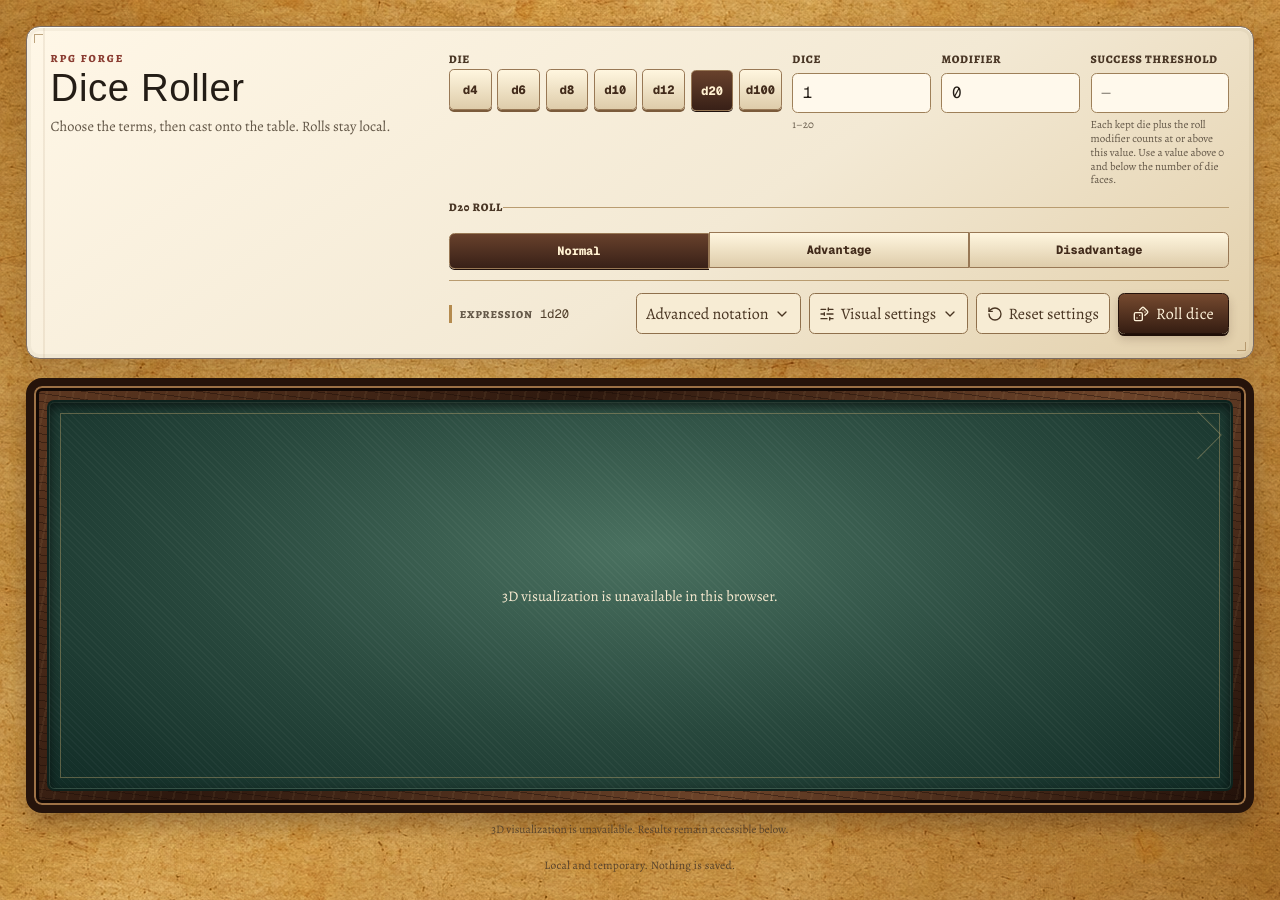
Test case: DiceRoller › uses an accessible engine fallback when WebGL initialization fails
The width and height of the screenshot is (1280, 900).
expect the text "3D visualization is unavailable in this browser." is shown: met, box [502, 586, 778, 606]
Click the button "Roll dice" at (1173, 314), box [1118, 294, 1229, 334]
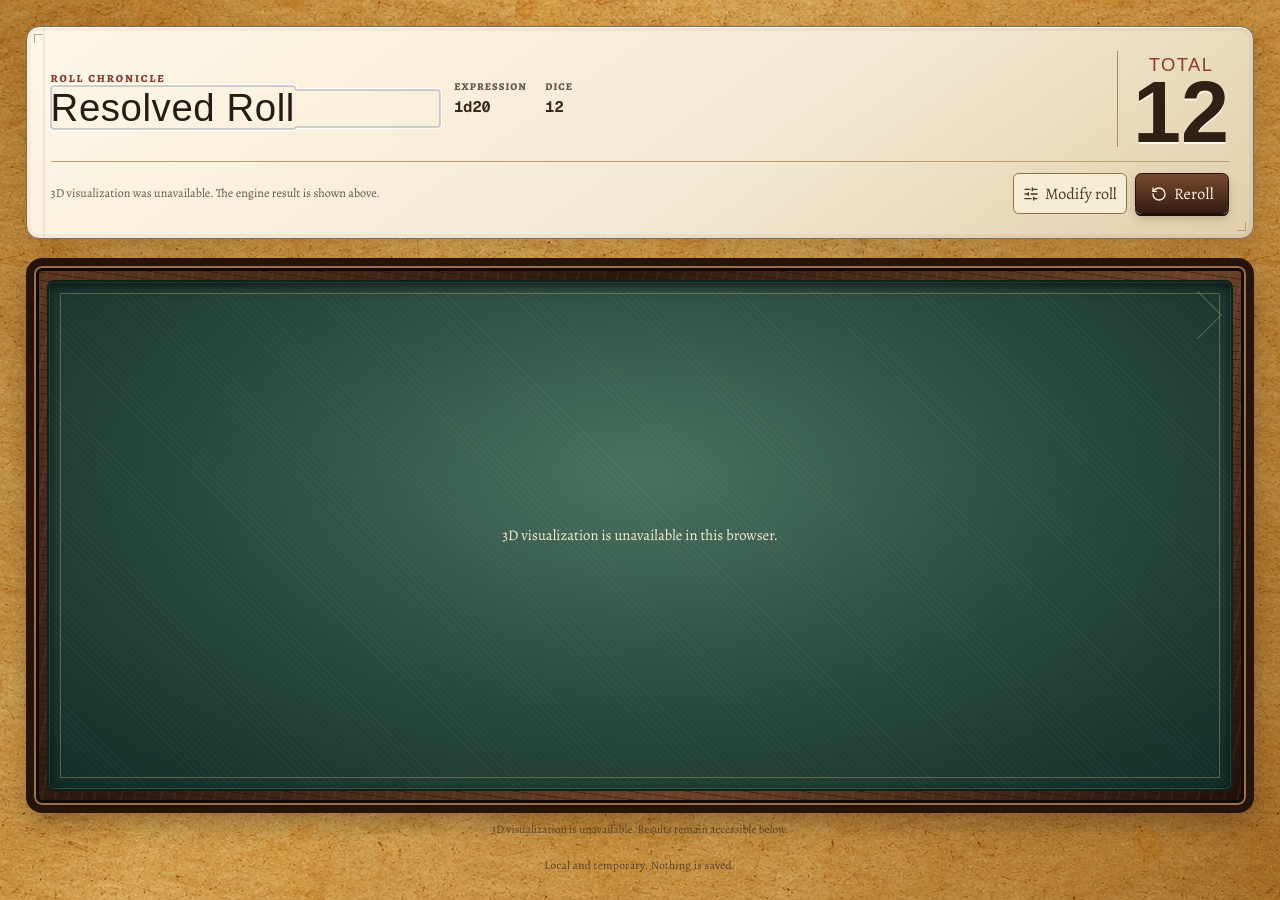
expect the heading "Resolved Roll" is shown: met, box [51, 86, 295, 129]
expect the text "3D visualization was unavailable" is shown: met, box [51, 185, 380, 201]
